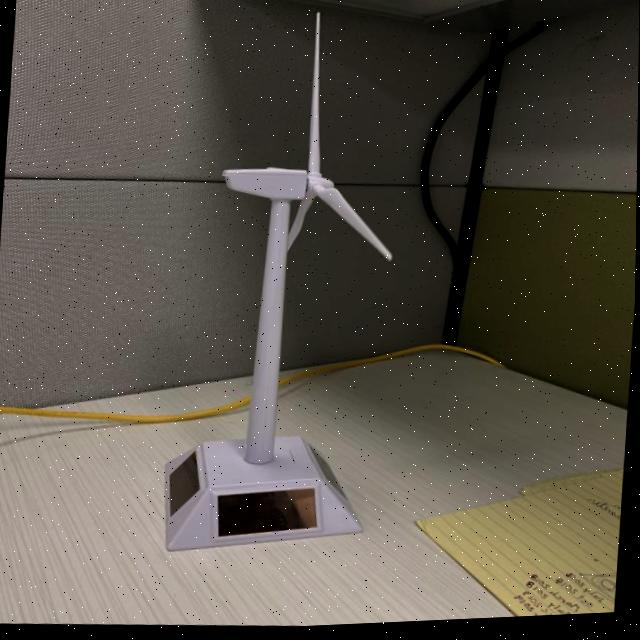solid-blade: (318, 181, 393, 263), (309, 15, 321, 176)
